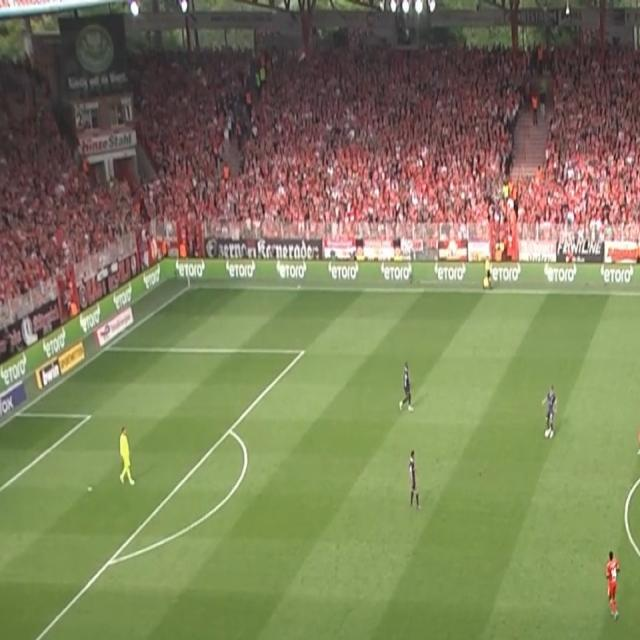ball: (544, 428, 551, 440)
